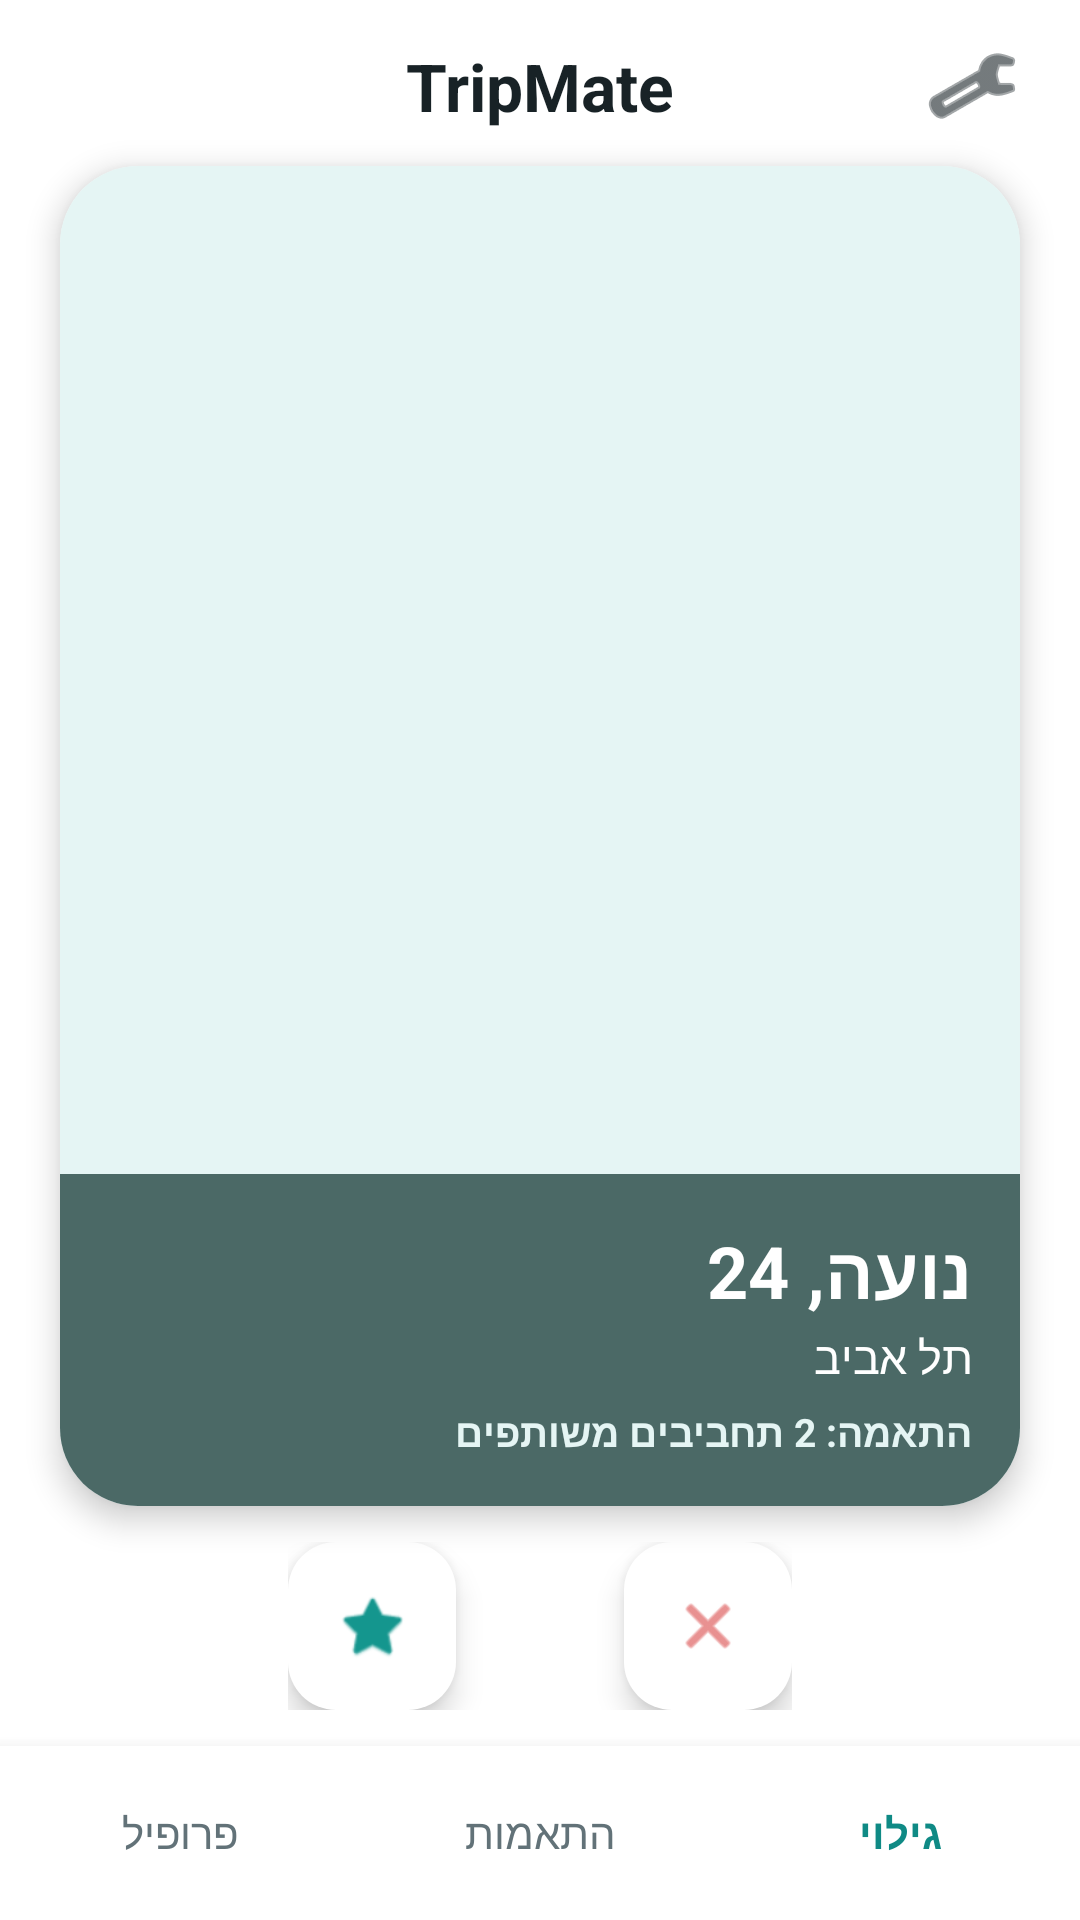

Locate icon controls on the screen. Image size 1080px x 1920px, boxes as [x1, y1, x2, y2].
Dislike: [627, 1604, 792, 1710]
Like: [288, 1597, 453, 1710]
